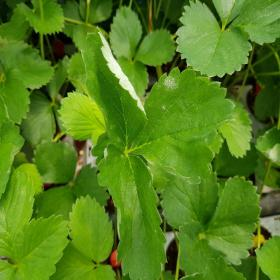Powdery Mildew Leaf: (127, 66, 236, 186), (96, 142, 168, 279), (80, 26, 148, 151), (253, 127, 279, 166)
